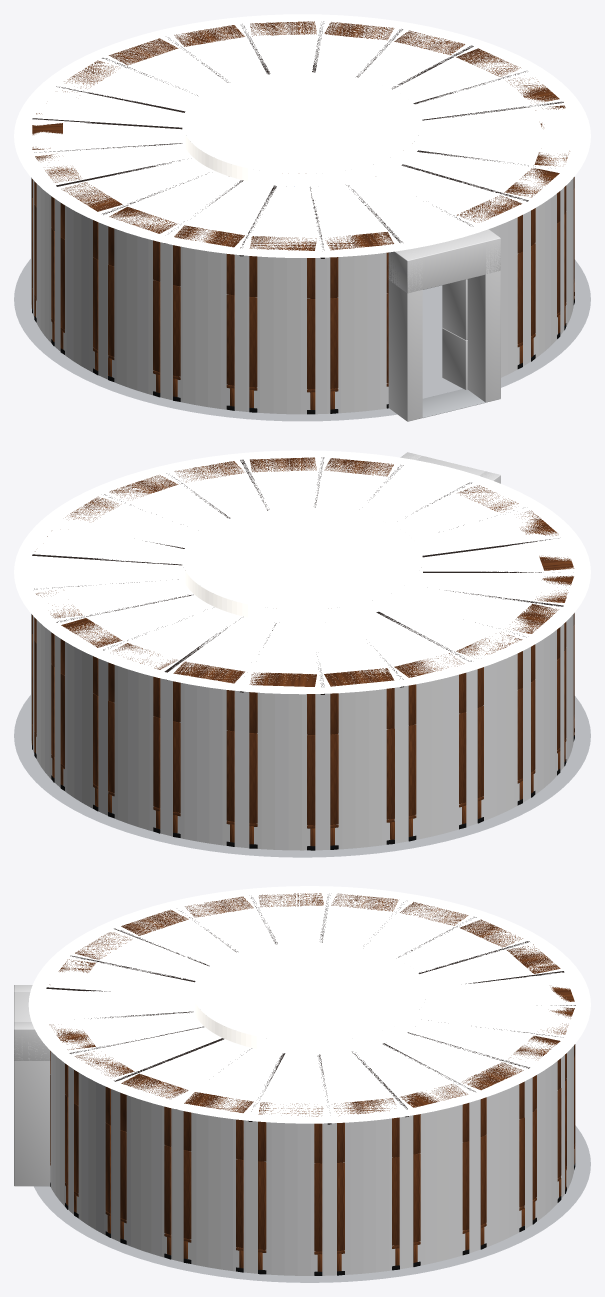
The model's file is sala.glb.
The picture shows the model from 3 angles, top to bottom: view 1: azimuth 30°, elevation 25°; view 2: azimuth 150°, elevation 25°; view 3: azimuth 270°, elevation 25°; orthographic projection. The views are drawn at different scales.
Parts seen in each view (by area): view 1: Fisso_Soffitto, Fisso_Parete, Fisso_Legno, Fisso_SoffittoC, Fisso_BiancoLucido, Fisso_Pavimento, Fisso_Tamburo, Fisso_Trave, Fisso_Cromo; view 2: Fisso_Soffitto, Fisso_Parete, Fisso_Legno, Fisso_SoffittoC, Fisso_Pavimento, Fisso_Tamburo, Fisso_Trave, Fisso_Nicchia, Fisso_BiancoLucido; view 3: Fisso_Soffitto, Fisso_Parete, Fisso_Legno, Fisso_SoffittoC, Fisso_BiancoLucido, Fisso_Pavimento, Fisso_Tamburo, Fisso_Trave, Fisso_Nicchia.
Boxes of the visible parts, x1,y1,x2,y2 form: Fisso_Soffitto: (14,14,590,257); Fisso_Parete: (31,177,573,414); Fisso_Legno: (32,21,574,409); Fisso_SoffittoC: (182,72,422,173); Fisso_BiancoLucido: (190,141,500,421); Fisso_Pavimento: (14,259,590,421); Fisso_Tamburo: (182,126,422,186); Fisso_Trave: (32,21,563,258); Fisso_Cromo: (422,389,485,417); Fisso_Soffitto: (14,450,590,694); Fisso_Parete: (31,614,573,850); Fisso_Legno: (32,457,574,846); Fisso_SoffittoC: (182,508,422,609); Fisso_Pavimento: (14,695,590,857); Fisso_Tamburo: (182,562,422,622); Fisso_Trave: (32,457,563,694); Fisso_Nicchia: (32,728,574,850); Fisso_BiancoLucido: (400,452,500,483); Fisso_Soffitto: (28,886,590,1123); Fisso_Parete: (50,1046,574,1275); Fisso_Legno: (49,893,575,1271); Fisso_SoffittoC: (192,942,426,1041); Fisso_BiancoLucido: (14,985,50,1186); Fisso_Pavimento: (34,1125,590,1282); Fisso_Tamburo: (192,989,426,1054); Fisso_Trave: (46,895,575,1124); Fisso_Nicchia: (50,1163,575,1275).
Size of the model in its own units: 9.6 by 3.24 by 9.85.
45 materials, 1 textured.
